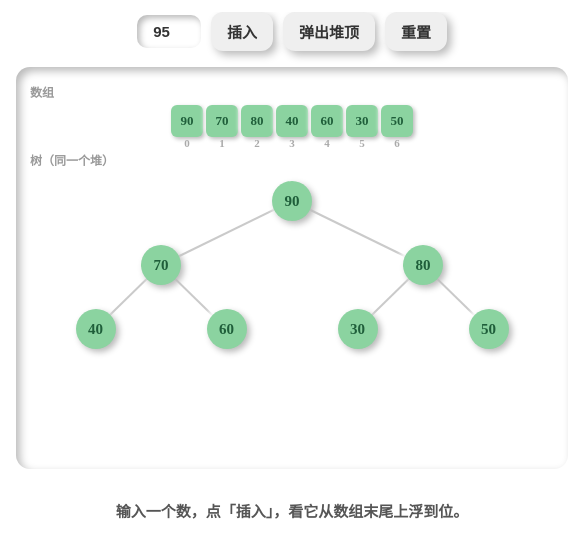
Test: HeapViz › TC-VIZ-HEAPVIZ-04 extract 双视图各 -1
The width and height of the screenshot is (585, 536).
Click the button "弹出堆顶" at (329, 32), box [283,12,375,51]
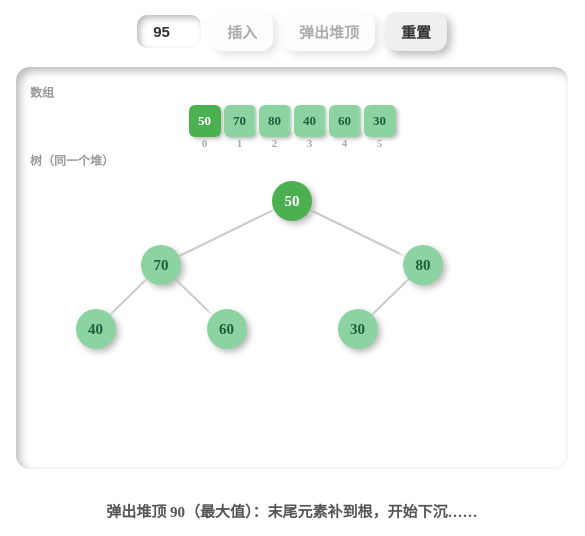
Check: the number of elements with class "cell" is 6, box [188,105,220,137]; [224,105,256,137]; [258,105,290,137]; [294,105,326,137]; [328,105,360,137]; [364,105,396,137]
Check: the number of elements with class "node" is 6, box [272,181,312,221]; [141,245,181,285]; [403,245,443,285]; [76,309,116,349]; [206,309,246,349]; [338,309,378,349]
